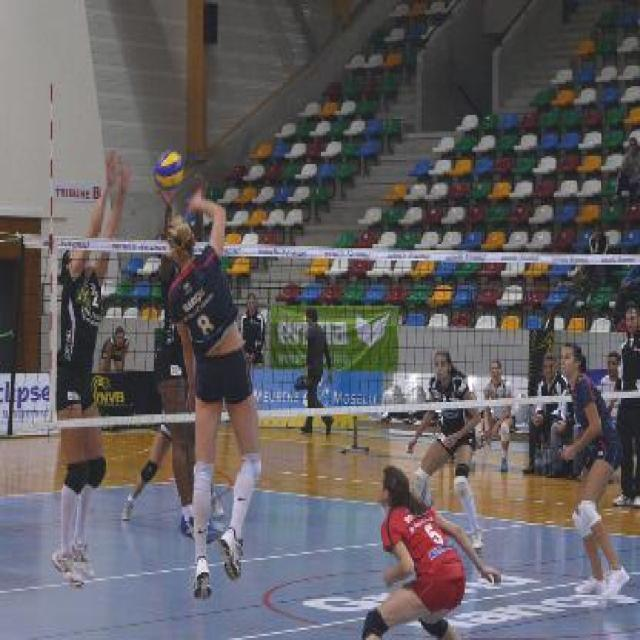volleyball: (152, 150, 184, 190)
